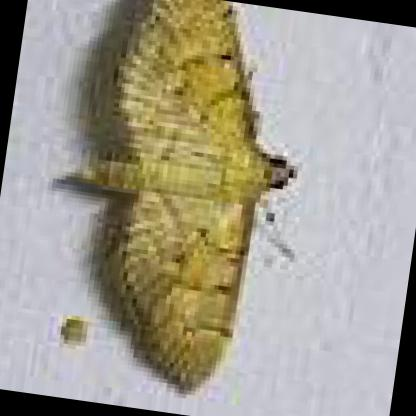Leaf Webber: (82, 0, 296, 397)
